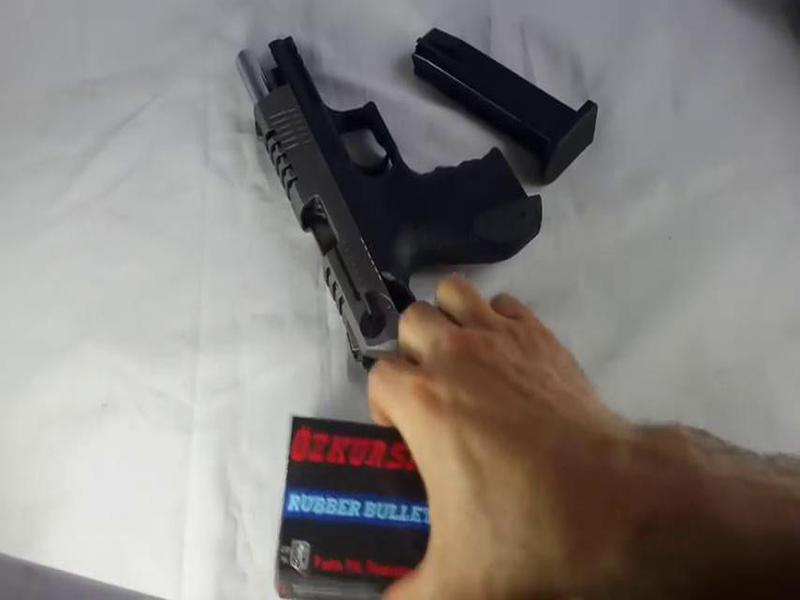Pistola: (200, 26, 541, 360)
